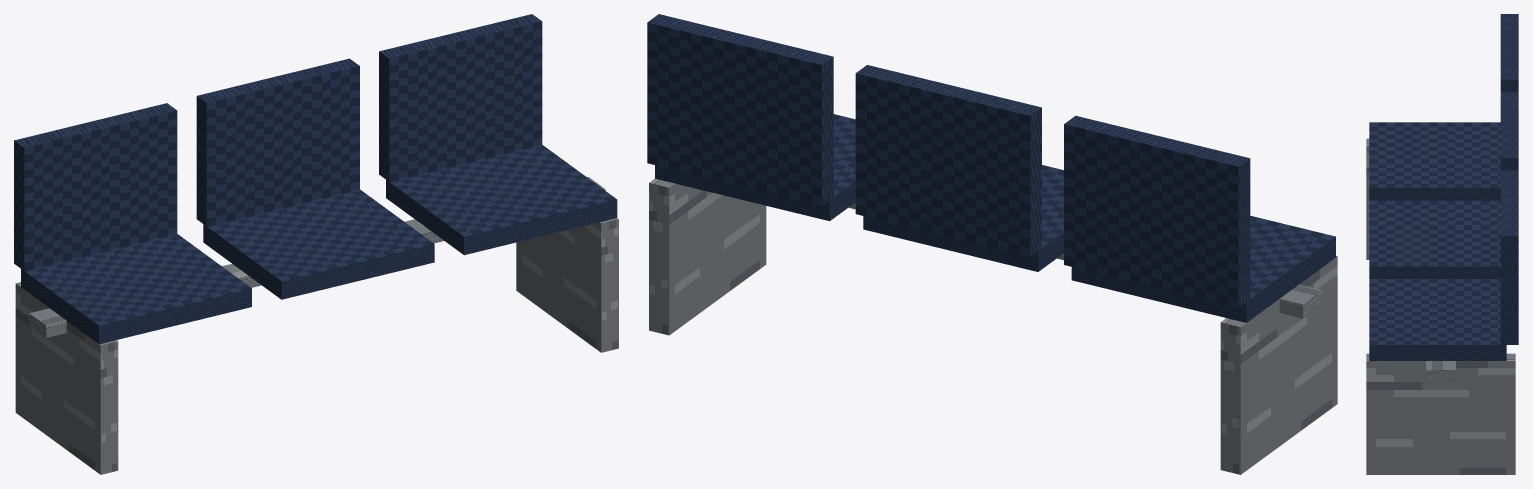
File: COM_WaitingChairs.glb
3 views of the same model, side by side, from view 1: azimuth 30°, elevation 25°; view 2: azimuth 150°, elevation 25°; view 3: azimuth 270°, elevation 25° (orthographic). The views are drawn at different scales.
Visible parts, largest first — view 1: COM_WaitingChairs; view 2: COM_WaitingChairs; view 3: COM_WaitingChairs.
Part boxes in pixels (x1,y1,x2,y2): COM_WaitingChairs: [14, 14, 618, 474]; COM_WaitingChairs: [647, 14, 1337, 474]; COM_WaitingChairs: [1366, 14, 1518, 474].
Size of what is drawn, in the model's own units: 1.9 by 0.88 by 0.51.
Materials: 1 (1 with a texture image).
